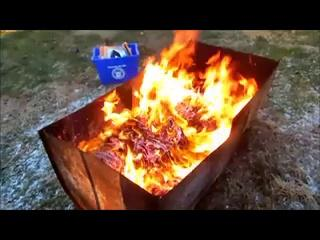fire: (100, 32, 258, 200)
